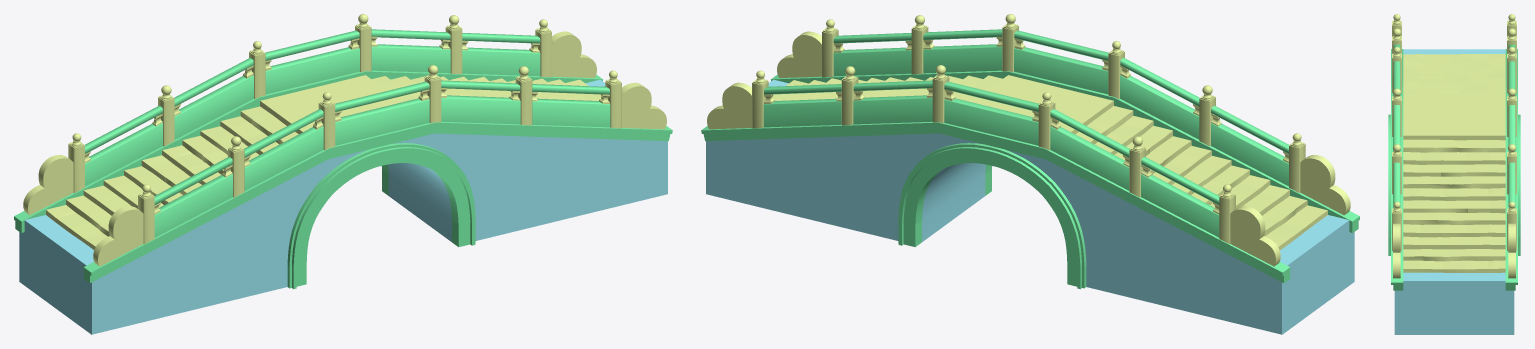
Rendered from Bridge.FBX.
3 renders of one model, left to right at view 1: azimuth 30°, elevation 25°; view 2: azimuth 150°, elevation 25°; view 3: azimuth 270°, elevation 25°, orthographic. The views are drawn at different scales.
Parts seen in each view (by area): view 1: Geometry_Garden_Bridge_A_LOD00; view 2: Geometry_Garden_Bridge_A_LOD00; view 3: Geometry_Garden_Bridge_A_LOD00.
Part boxes in pixels (x1,y1,x2,y2): Geometry_Garden_Bridge_A_LOD00: [14, 14, 672, 334]; Geometry_Garden_Bridge_A_LOD00: [701, 14, 1359, 334]; Geometry_Garden_Bridge_A_LOD00: [1388, 14, 1520, 334].
Size of what is drawn, in the model's own units: 1281 by 389 by 306.
